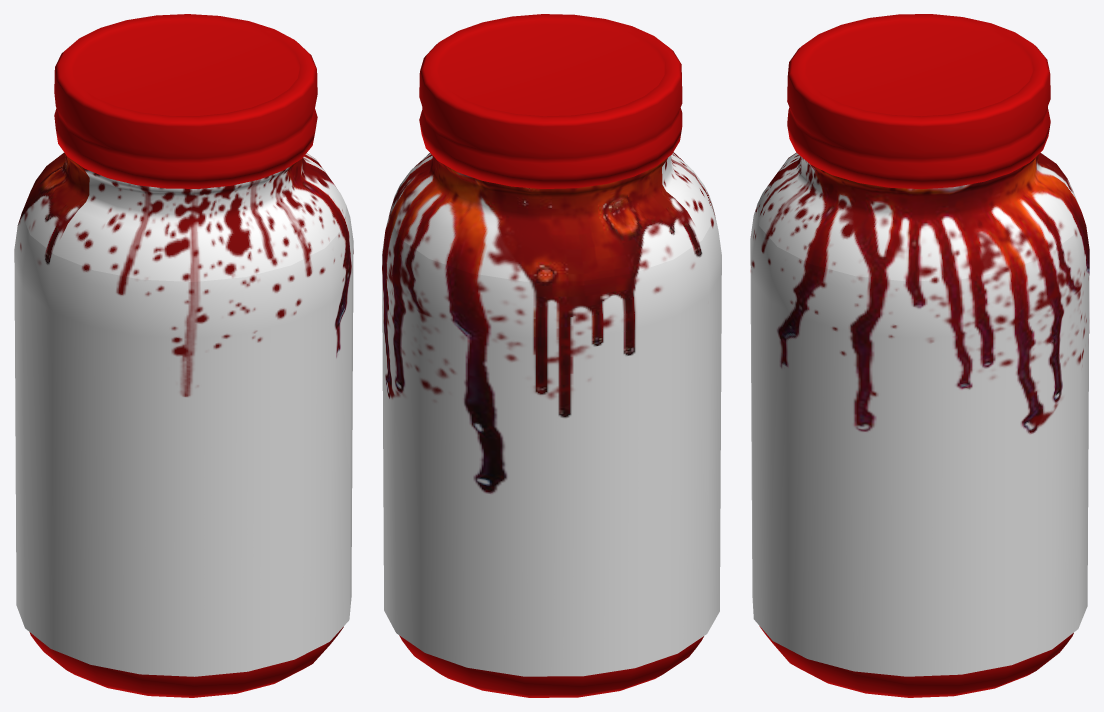
The model's file is BloodJar.fbx.
3 views of the same model, side by side, from view 1: azimuth 30°, elevation 25°; view 2: azimuth 150°, elevation 25°; view 3: azimuth 270°, elevation 25° (orthographic).
Parts seen in each view (by area): view 1: polySurface4, polySurface3; view 2: polySurface4, polySurface3; view 3: polySurface4, polySurface3.
Boxes of the visible parts, x1,y1,x2,y2 form: polySurface4: (14, 152, 353, 676); polySurface3: (29, 14, 343, 697); polySurface4: (382, 152, 721, 676); polySurface3: (399, 14, 703, 697); polySurface4: (750, 152, 1089, 676); polySurface3: (759, 14, 1073, 697).
Size of the model in its own units: 2.55 by 4.76 by 2.55.
